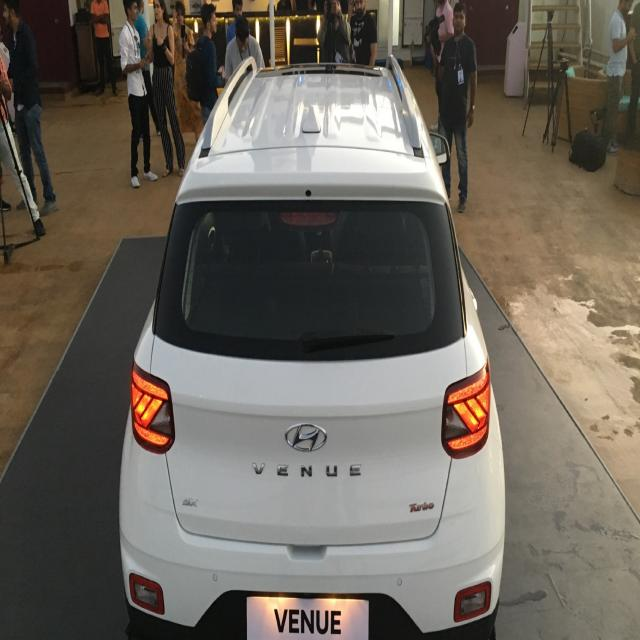Number-Plate: (250, 601, 366, 640)
